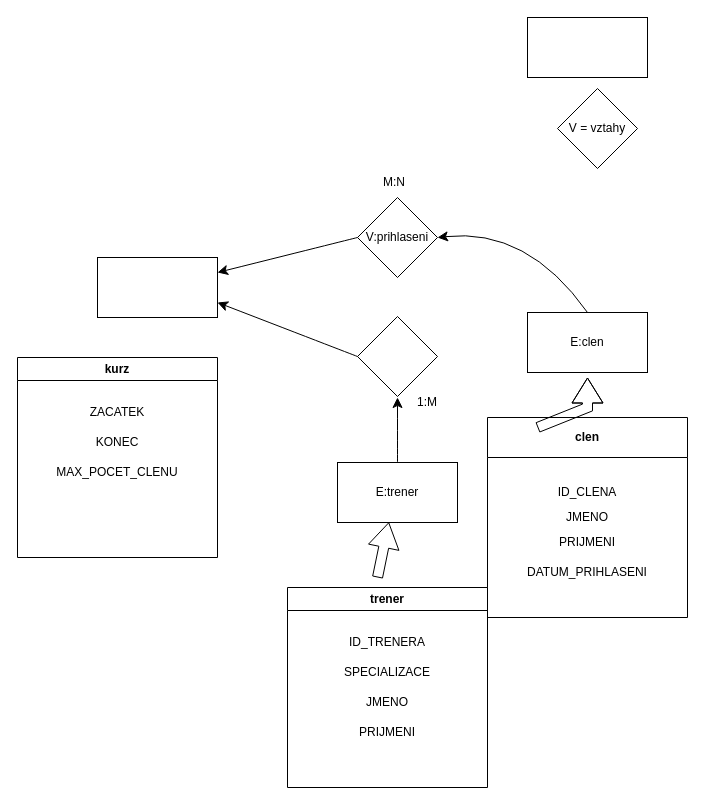
Image size: 705x805. Some labels were removed from this diagram. Each missing label, with the centre of its shape:
"E = entity" goes at point (587, 47).
"E: kurz" goes at point (157, 287).
"V:vedeni kurzu" goes at point (397, 356).
